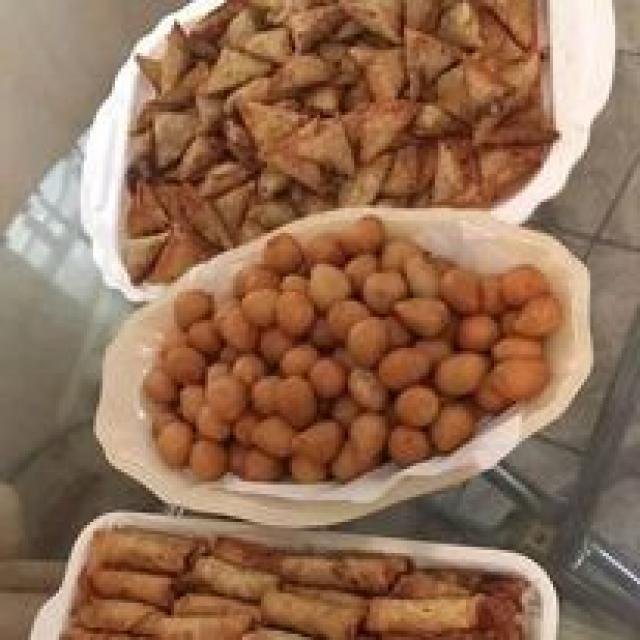Samosa: (109, 0, 563, 270)
Spring Rolls: (65, 516, 544, 637)
